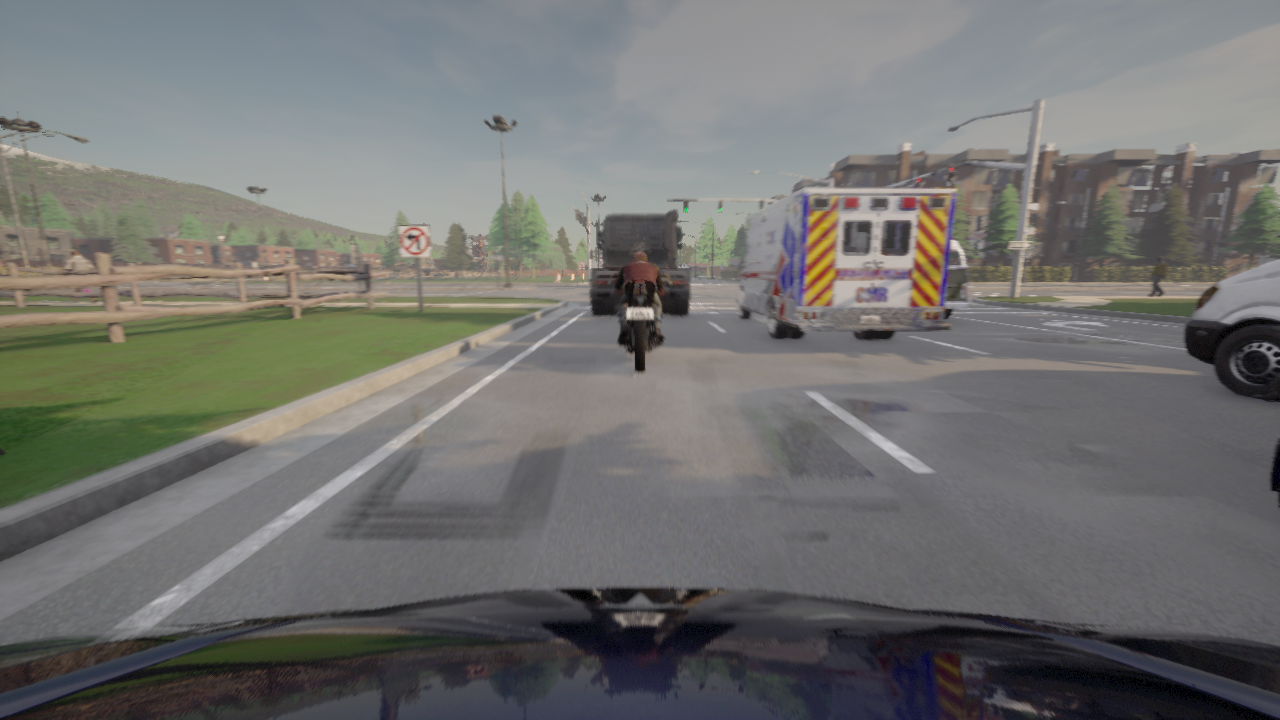cyclist: (0, 588, 1279, 719), (730, 188, 956, 339), (1185, 258, 1279, 400), (590, 211, 690, 315), (611, 274, 668, 372), (943, 239, 968, 320), (1269, 439, 1279, 511)
pedestrian: (64, 251, 97, 302), (1149, 257, 1167, 295)
